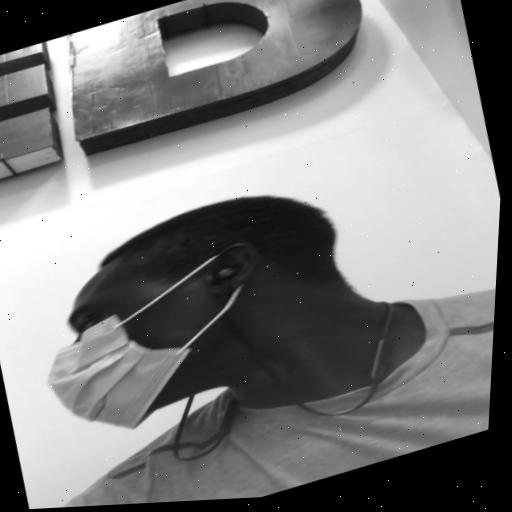mask: (21, 231, 266, 452)
